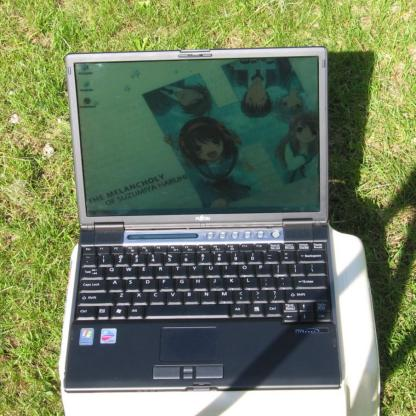board: (63, 46, 340, 391)
